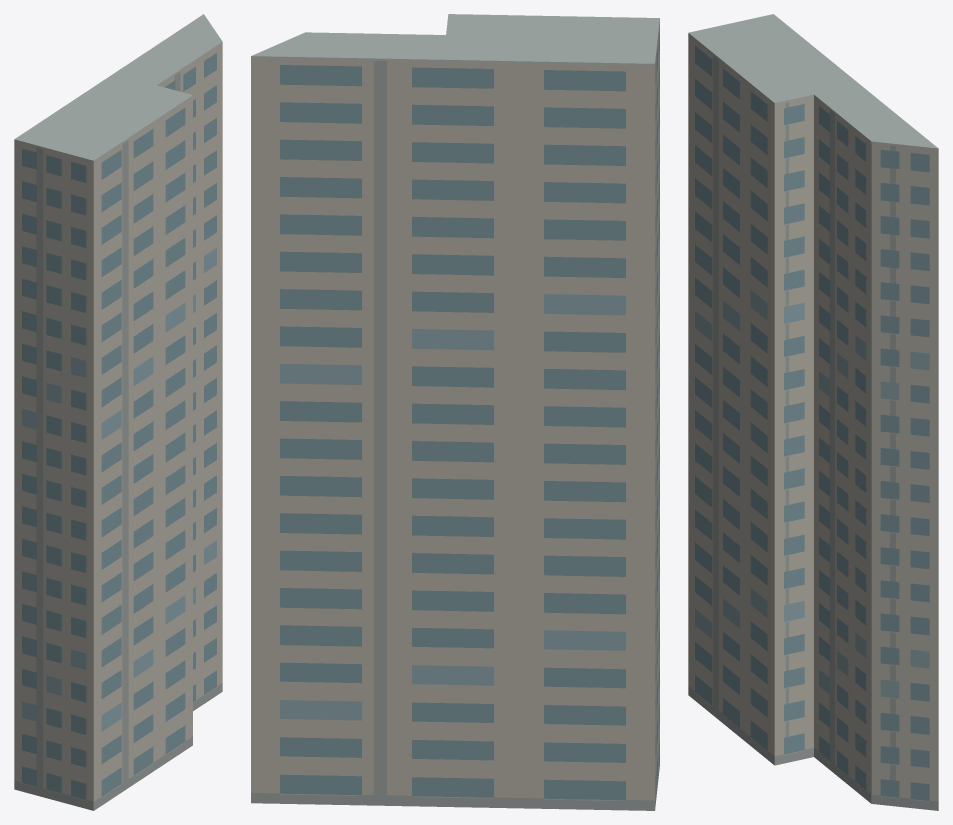
Rendered from residential-f8e32967-7f48-4aeb-ab13-e204a87fd23b.glb.
The picture shows the model from 3 angles, left to right: view 1: azimuth 30°, elevation 25°; view 2: azimuth 150°, elevation 25°; view 3: azimuth 270°, elevation 25°; orthographic projection. The views are drawn at different scales.
Parts seen in each view (by area): view 1: residential-f8e32967-7f48-4aeb-ab13-e204a87fd23b.tmp; view 2: residential-f8e32967-7f48-4aeb-ab13-e204a87fd23b.tmp; view 3: residential-f8e32967-7f48-4aeb-ab13-e204a87fd23b.tmp.
Boxes of the visible parts, <box> form: residential-f8e32967-7f48-4aeb-ab13-e204a87fd23b.tmp: <box>14,14,222,810</box>; residential-f8e32967-7f48-4aeb-ab13-e204a87fd23b.tmp: <box>251,14,659,810</box>; residential-f8e32967-7f48-4aeb-ab13-e204a87fd23b.tmp: <box>688,14,938,810</box>.
Size of the model in its own units: 32.23 by 74 by 25.36.
